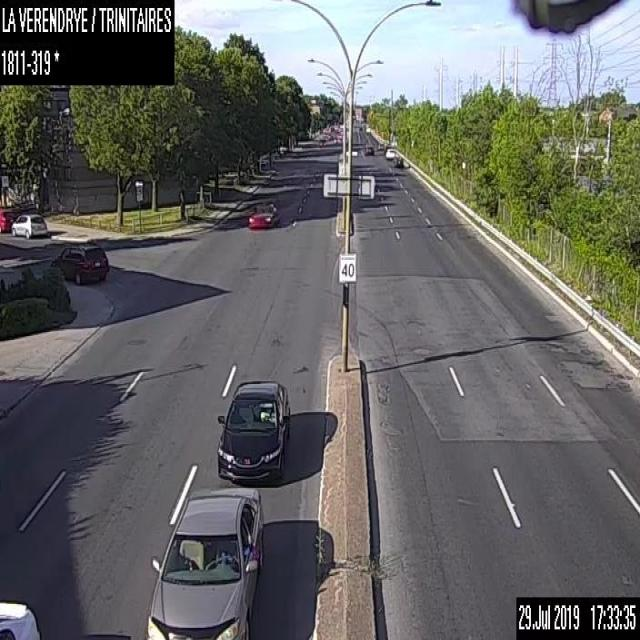vehicle: (143, 486, 264, 639), (217, 379, 290, 480), (49, 243, 108, 285), (0, 597, 40, 639), (11, 212, 47, 238), (247, 202, 278, 230), (0, 207, 15, 232), (393, 156, 403, 168), (384, 148, 394, 158), (364, 144, 373, 155), (383, 144, 393, 153), (318, 138, 326, 145), (377, 140, 383, 149)
